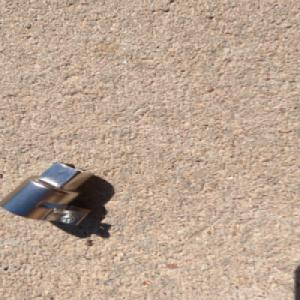MetalPart: (0, 161, 98, 227)
